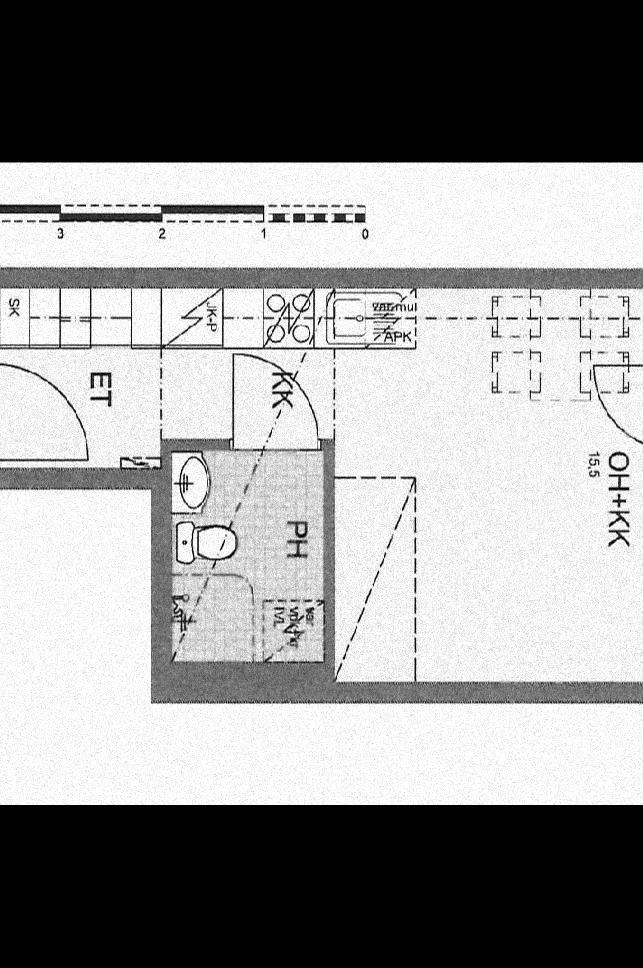door: (0, 346, 103, 485), (229, 344, 316, 458), (588, 361, 643, 463)
zone: (333, 288, 643, 695), (174, 448, 332, 664), (158, 286, 334, 450), (0, 286, 156, 468)
